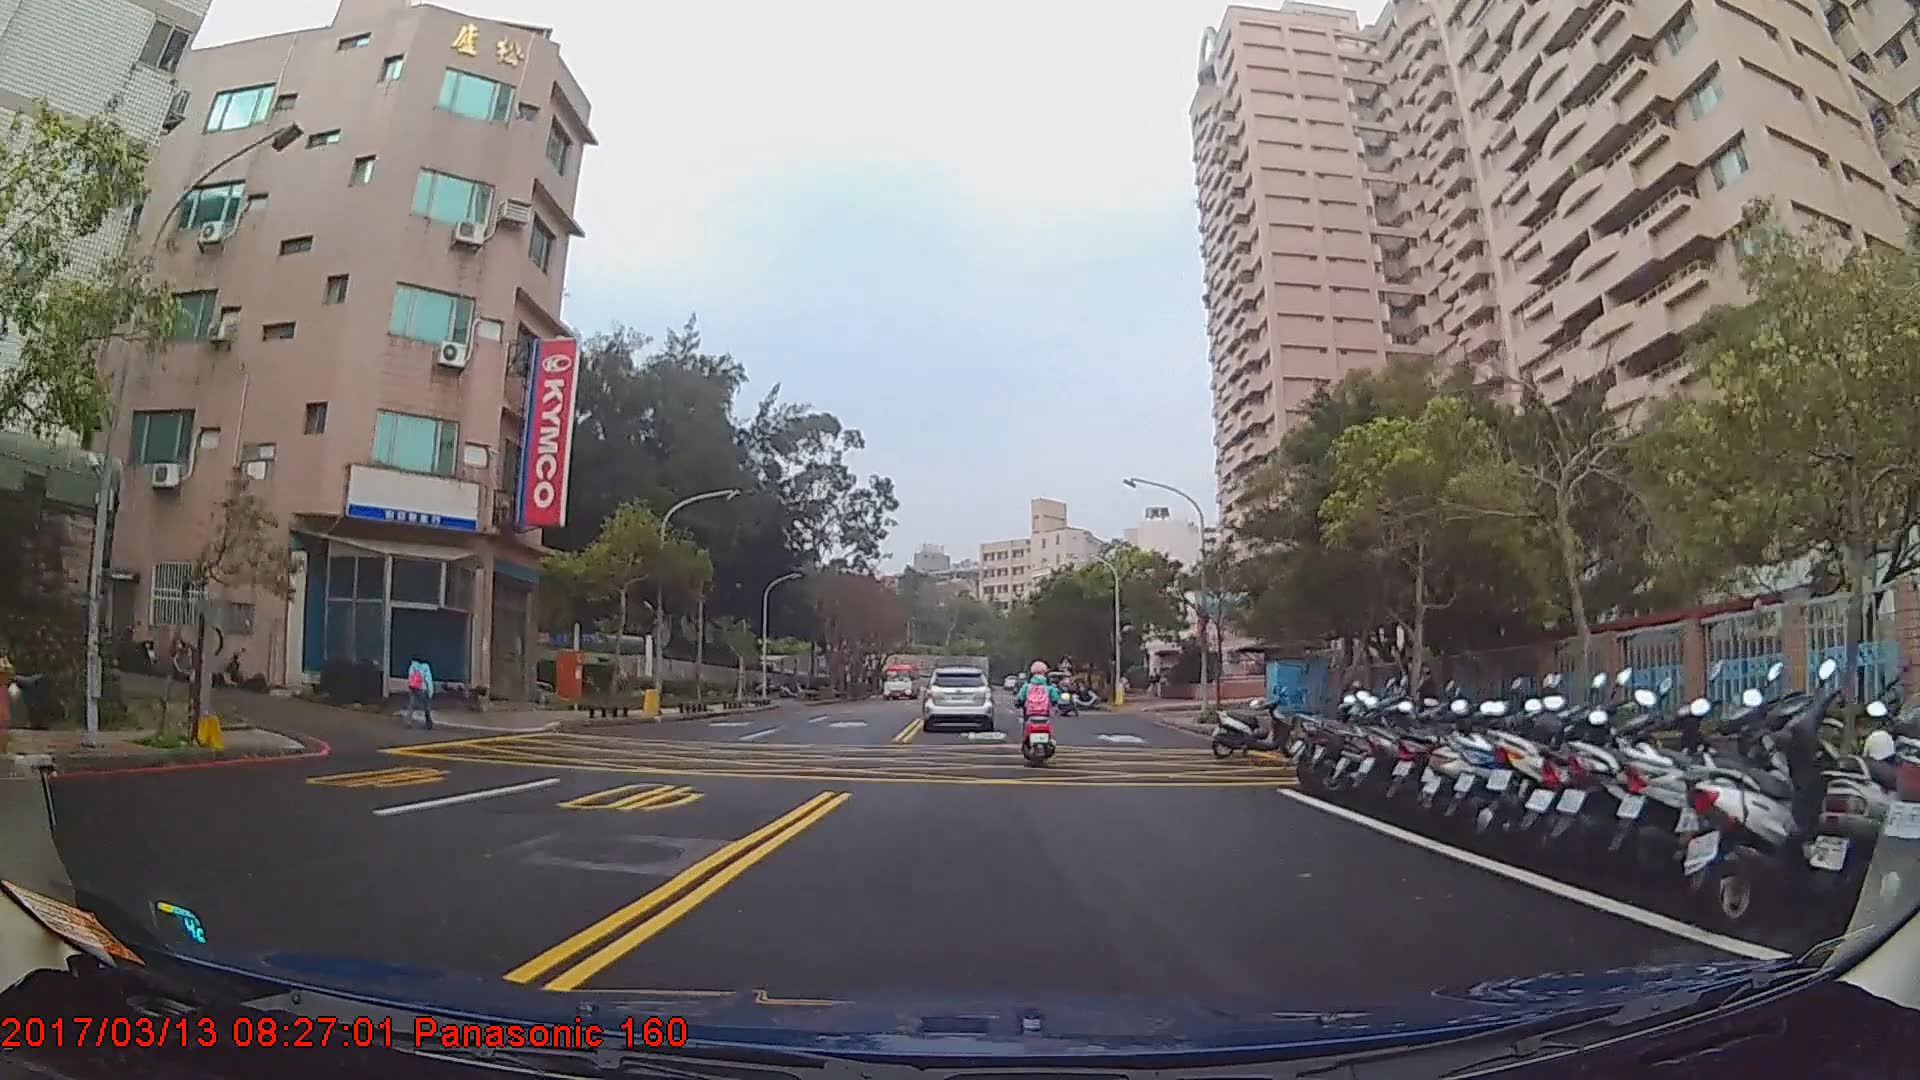pedestrian: (407, 645, 435, 733)
rider: (1015, 661, 1064, 776)
vehicle: (922, 666, 993, 732), (880, 660, 920, 697)
